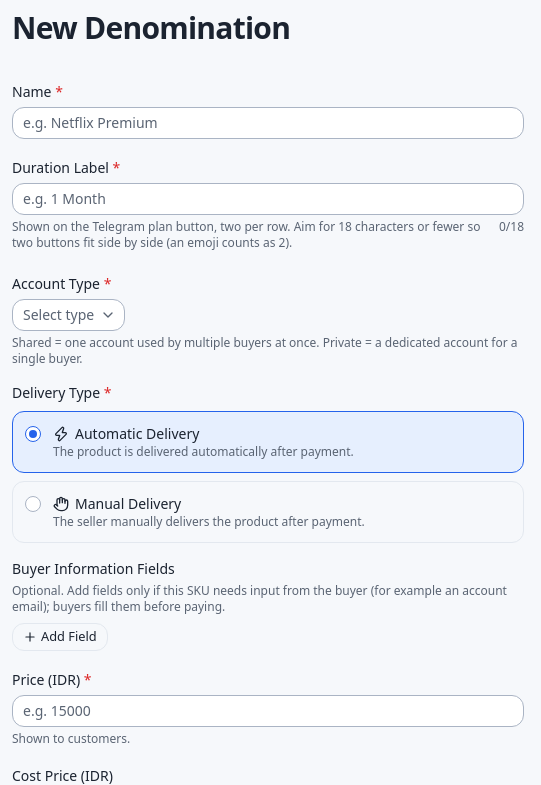
DenominationCreatePage › selecting Manual Delivery reveals Buyer Information (Step 2) without yet requiring fields
Type "1 Month Plan" into the field with placeholder "e.g. Netflix Premium" at (268, 122), box top-left (12, 106), bottom-right (524, 138)
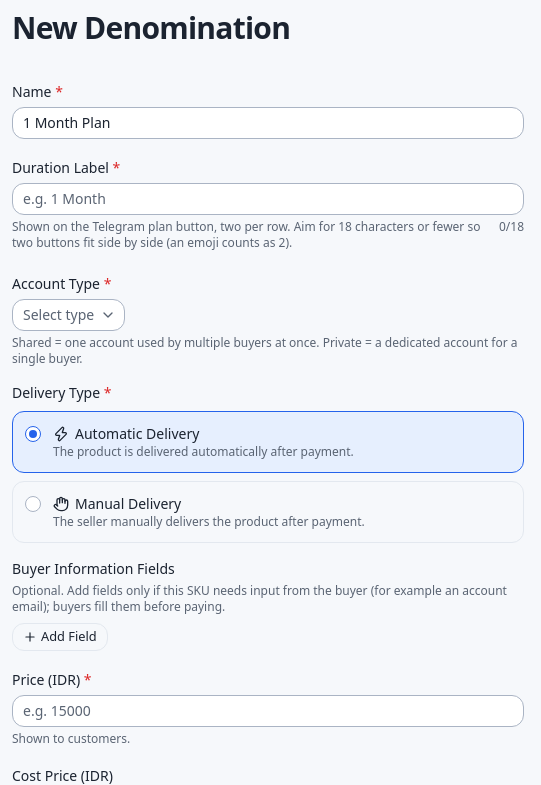
Click the dropdown named "Account Type" at (69, 314), box top-left (12, 298), bottom-right (125, 330)
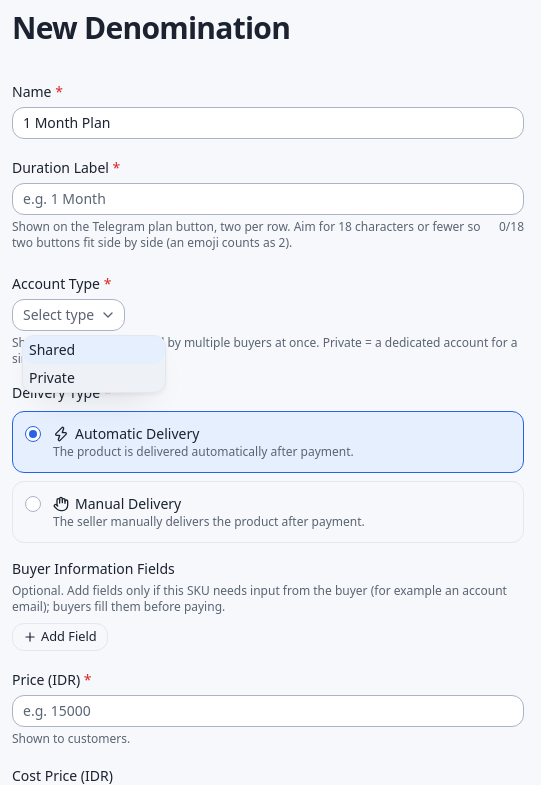
Check: the option "Shared" is shown
Click the option "Shared" at (94, 350), box top-left (23, 336), bottom-right (165, 364)
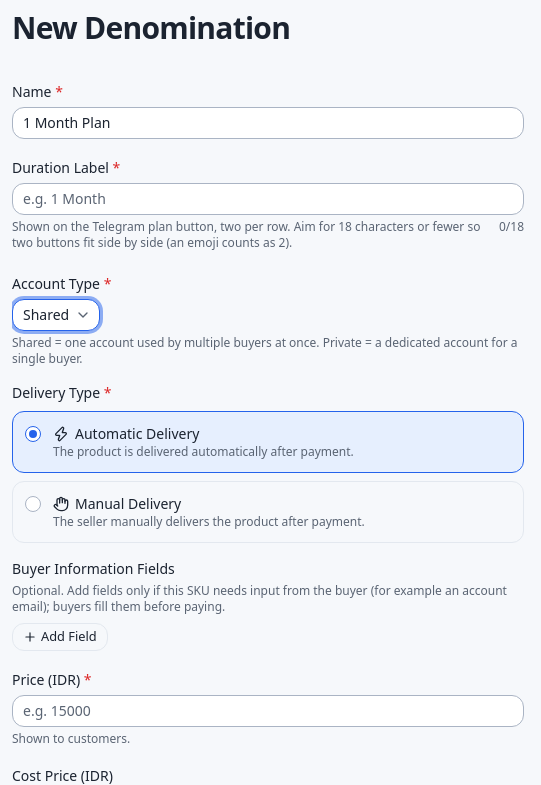
Type "1 Month" into the field with placeholder "e.g. 1 Month" at (268, 198), box top-left (12, 182), bottom-right (524, 214)
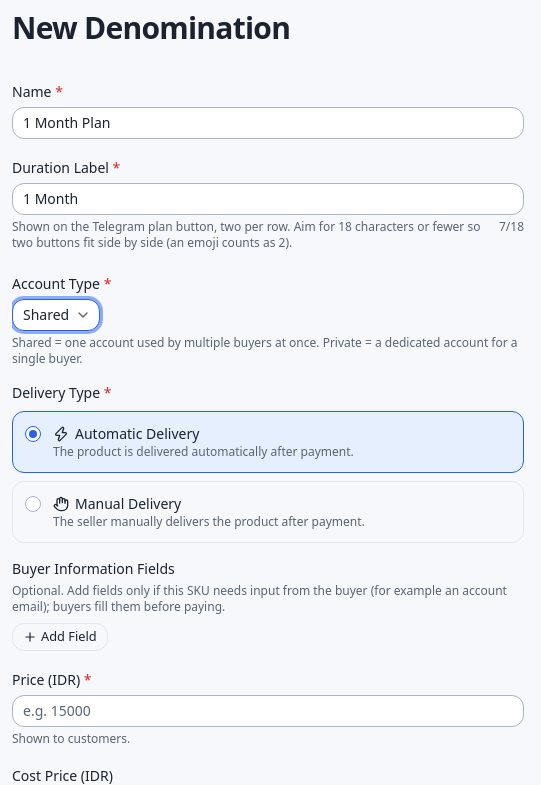
Type "15000" into the field with placeholder "e.g. 15000" at (268, 710), box top-left (12, 694), bottom-right (524, 726)
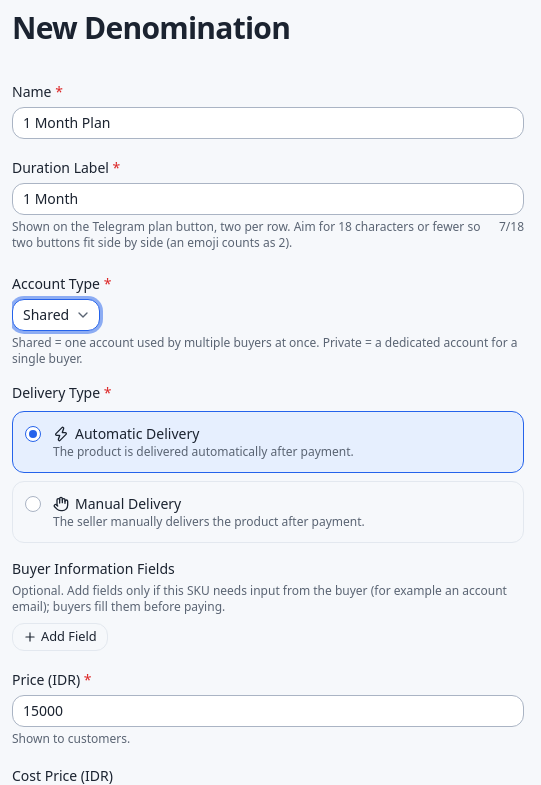
Click the radio button named "manual delivery" next to "Manual Delivery" at (33, 504), box top-left (25, 496), bottom-right (41, 512)
(page scrolled)
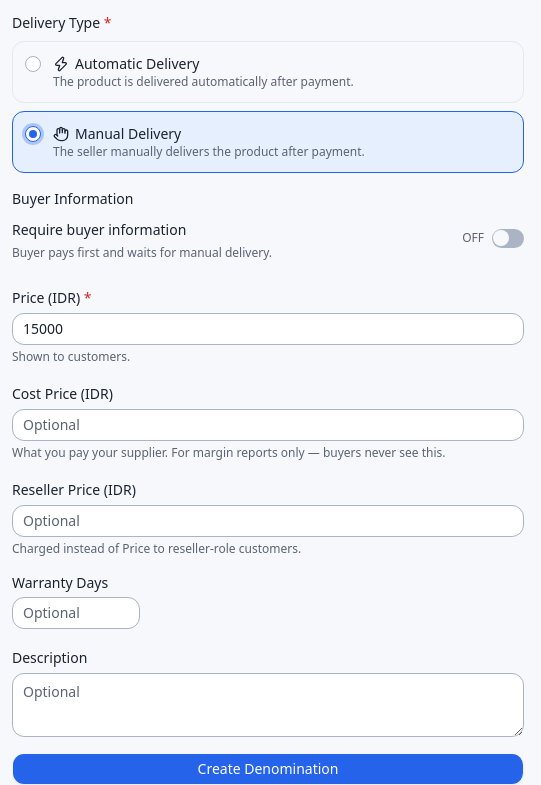
Check: the button "Create Denomination" is enabled, box top-left (12, 752), bottom-right (524, 784)
Check: the switch named "require buyer information" is not checked, box top-left (492, 229), bottom-right (524, 248)
Check: the text "Add field" is gone
